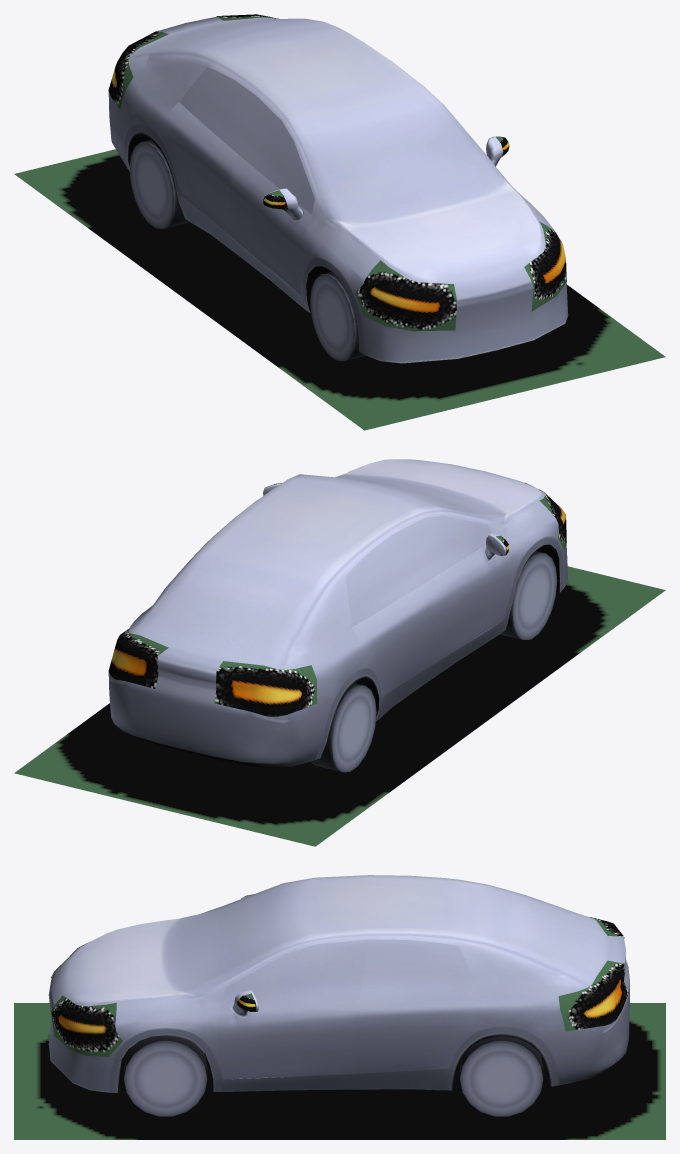
File: Sedan.fbx
3 views of the same model, one above another, from view 1: azimuth 30°, elevation 25°; view 2: azimuth 150°, elevation 25°; view 3: azimuth 270°, elevation 25° (orthographic). The views are drawn at different scales.
Visible parts, largest first — view 1: CA_Car, CA_Shadow, CA_RF, CA_RB, CA_RDirection, CA_WB, CA_W_RF, CA_LDirection; view 2: CA_Car, CA_Shadow, CA_RF, CA_RB, CA_RDirection, CA_WB, CA_W_RF, CA_LDirection; view 3: CA_Car, CA_Shadow, CA_LF, CA_LB, CA_LDirection, CA_W_LF, CA_WB.
Part boxes in pixels (bbox=[...]): CA_Car: bbox=[108, 16, 568, 363]; CA_Shadow: bbox=[14, 149, 665, 430]; CA_RF: bbox=[230, 95, 314, 294]; CA_RB: bbox=[163, 67, 255, 237]; CA_RDirection: bbox=[108, 30, 456, 331]; CA_WB: bbox=[129, 139, 189, 228]; CA_W_RF: bbox=[310, 272, 365, 361]; CA_LDirection: bbox=[216, 14, 566, 311]; CA_Car: bbox=[108, 459, 568, 767]; CA_Shadow: bbox=[14, 566, 665, 846]; CA_RF: bbox=[392, 515, 509, 665]; CA_RB: bbox=[345, 535, 435, 696]; CA_RDirection: bbox=[214, 482, 566, 716]; CA_WB: bbox=[310, 683, 376, 772]; CA_W_RF: bbox=[500, 551, 557, 639]; CA_LDirection: bbox=[108, 483, 281, 688]; CA_Car: bbox=[48, 875, 629, 1093]; CA_Shadow: bbox=[14, 1003, 665, 1139]; CA_LF: bbox=[217, 939, 369, 1079]; CA_LB: bbox=[353, 939, 481, 1073]; CA_LDirection: bbox=[51, 960, 628, 1056]; CA_W_LF: bbox=[124, 1035, 207, 1116]; CA_WB: bbox=[460, 1036, 543, 1116].
Bounding box in the file's own units: 2.72 × 1.58 × 5.48.
